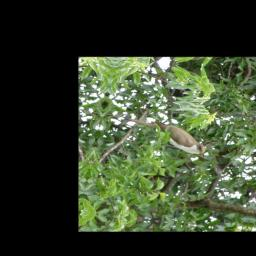Cuckoo: (113, 115, 214, 160)
